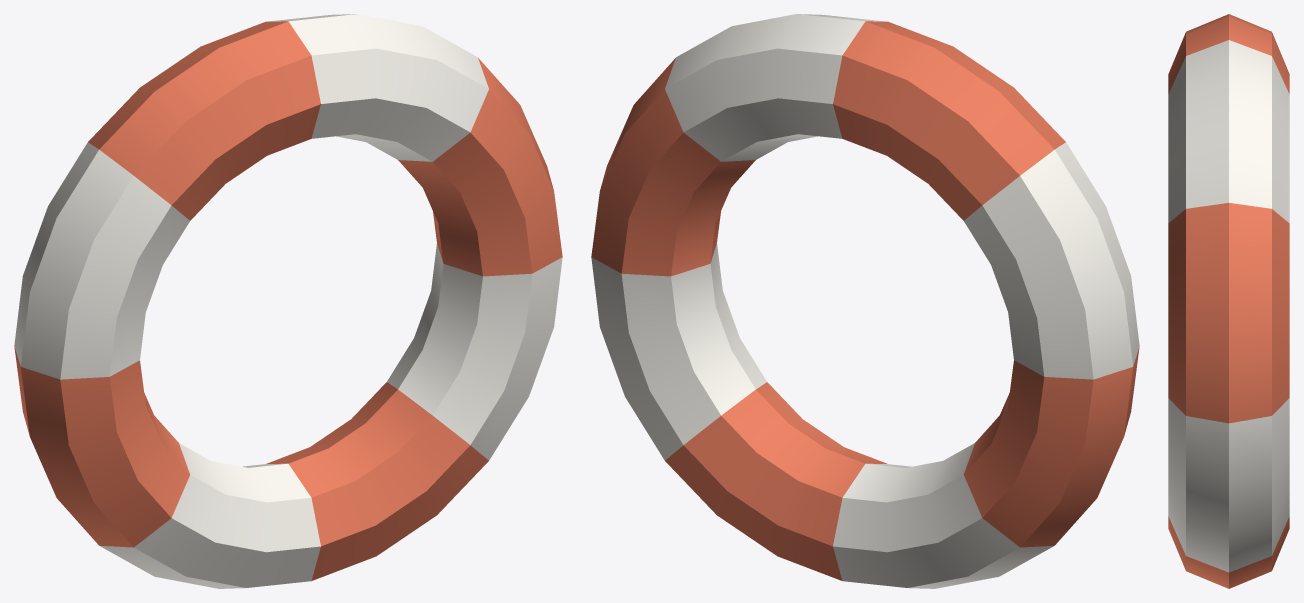
File: b_lifering.gltf
The picture shows the model from 3 angles, left to right: view 1: azimuth 30°, elevation 25°; view 2: azimuth 150°, elevation 25°; view 3: azimuth 270°, elevation 25°; orthographic projection. The views are drawn at different scales.
Visible parts, largest first — view 1: b_lifering; view 2: b_lifering; view 3: b_lifering.
Part boxes in pixels (left/top/right/bottom): b_lifering: left=14, top=14, right=562, bottom=588; b_lifering: left=591, top=14, right=1139, bottom=588; b_lifering: left=1168, top=14, right=1289, bottom=588.
Bounding box in the file's own units: 0.76 × 0.76 × 0.16.
Materials: 1 (1 with a texture image).
